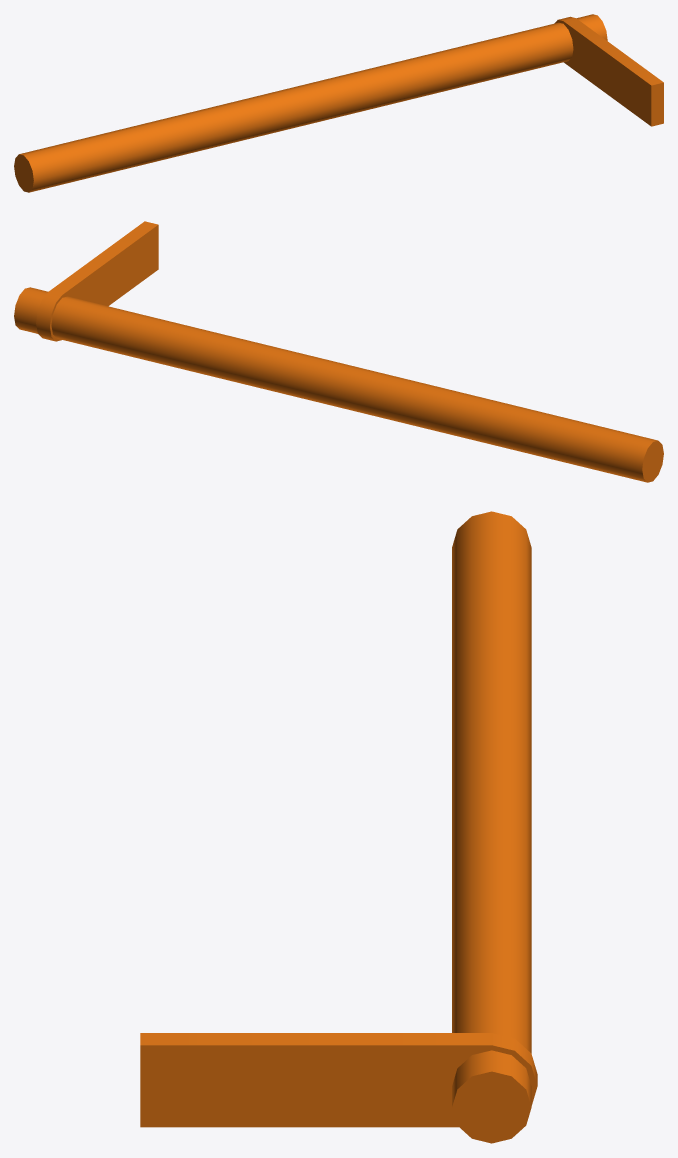
File: Pipe_2m_01_mesh.fbx
3 views of the same model, one above another, from view 1: azimuth 30°, elevation 25°; view 2: azimuth 150°, elevation 25°; view 3: azimuth 270°, elevation 25° (orthographic). The views are drawn at different scales.
Parts seen in each view (by area): view 1: Cylinder.011; view 2: Cylinder.011; view 3: Cylinder.011.
Boxes of the visible parts, x1,y1,x2,y2 form: Cylinder.011: [14, 14, 663, 192]; Cylinder.011: [14, 221, 663, 482]; Cylinder.011: [140, 511, 537, 1143].
Bounding box in the file's own units: 13.68 × 200 × 59.93.
